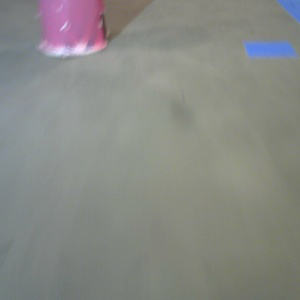middle: (39, 1, 107, 57)
